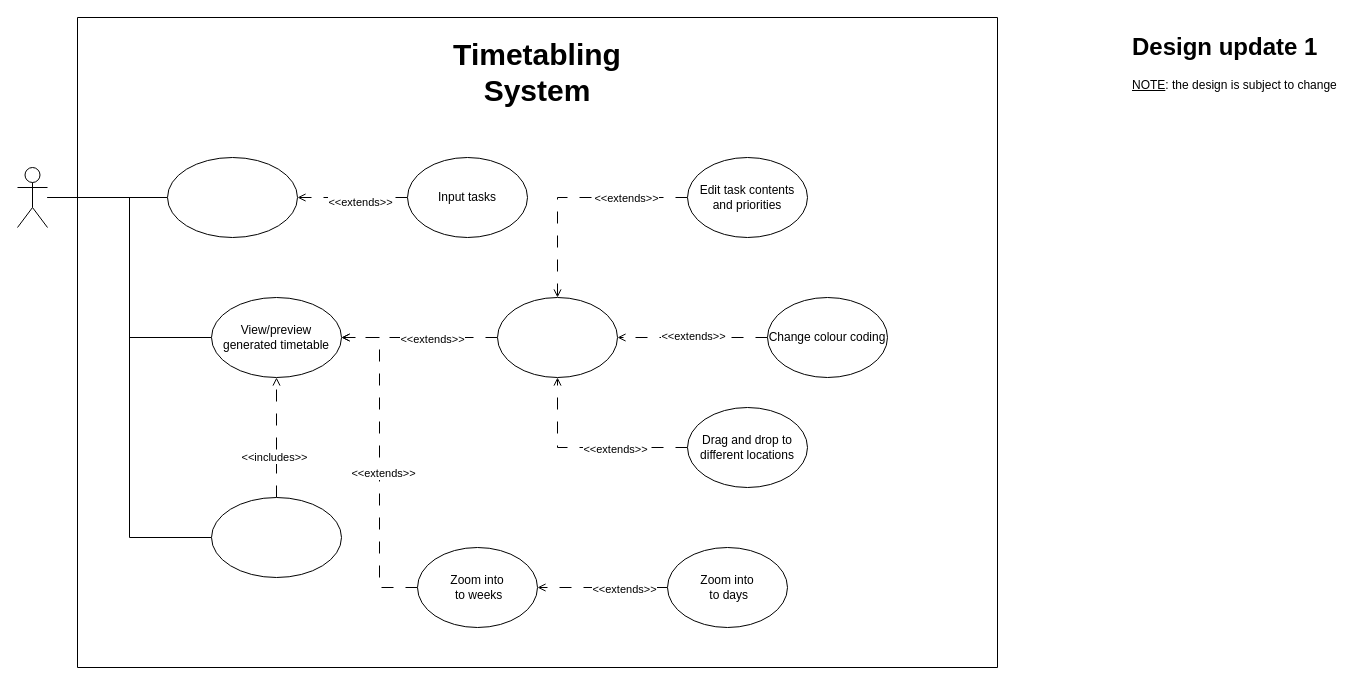
This 1365x685 diagram has some shape labels left out. Here are the shapes that lost their labels. From the top down, the centre of each, then its label:
At point (32, 197): "User".
At point (232, 197): "Input initial conditions".
At point (557, 337): "Edit timetable".
At point (276, 537): "Regenerate timetable".
